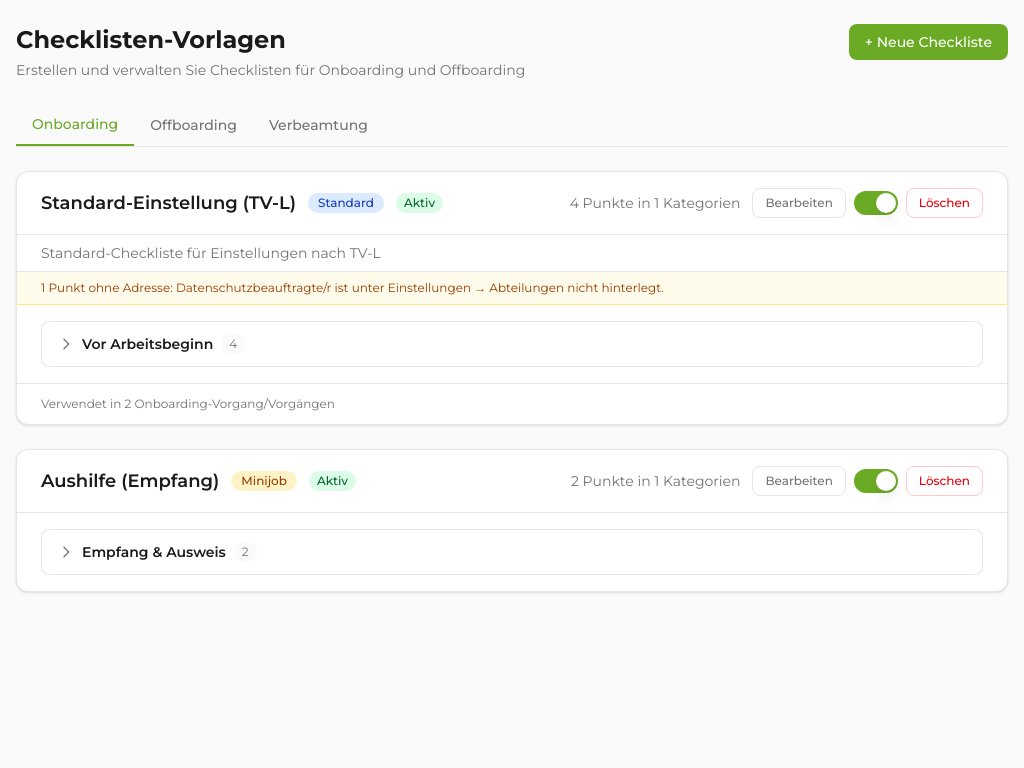
Test case: Vorlagen-Karte › ein einzelner Tag heisst „Tag“, nicht „Tage“
Click the button "Empfang & Ausweis 2" at (154, 552), box [42, 530, 982, 574]
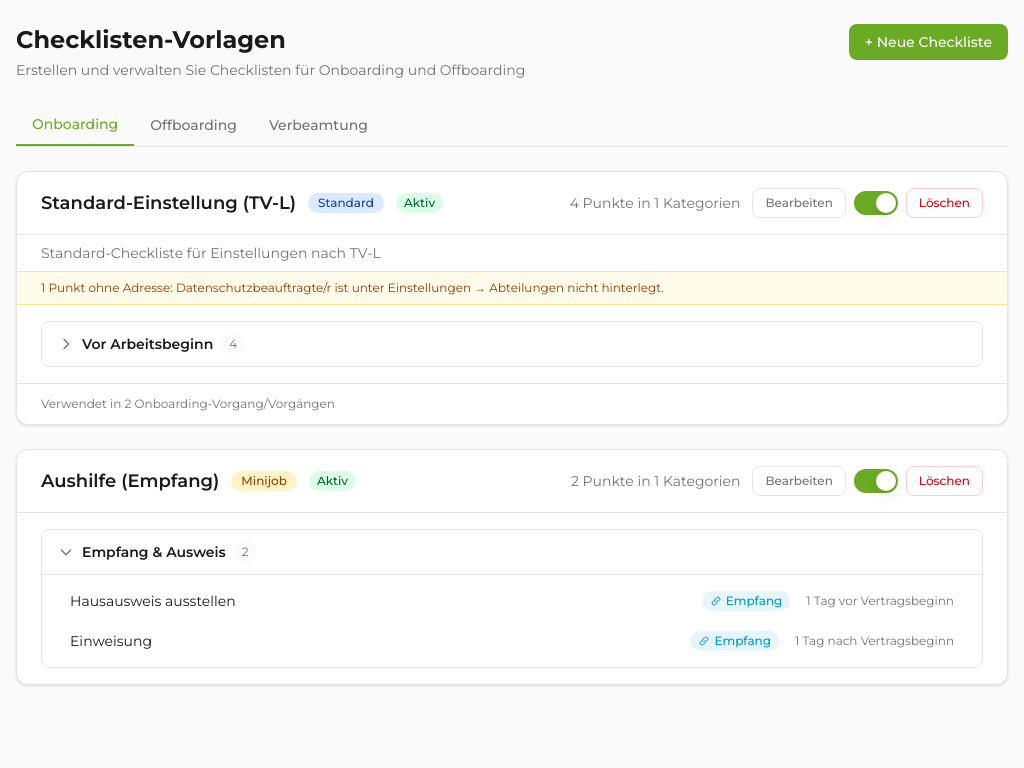
Result: the text "1 Tag vor Vertragsbeginn" is shown at [806, 593, 954, 609]
Result: the text "1 Tag nach Vertragsbeginn" is shown at [795, 633, 954, 649]
